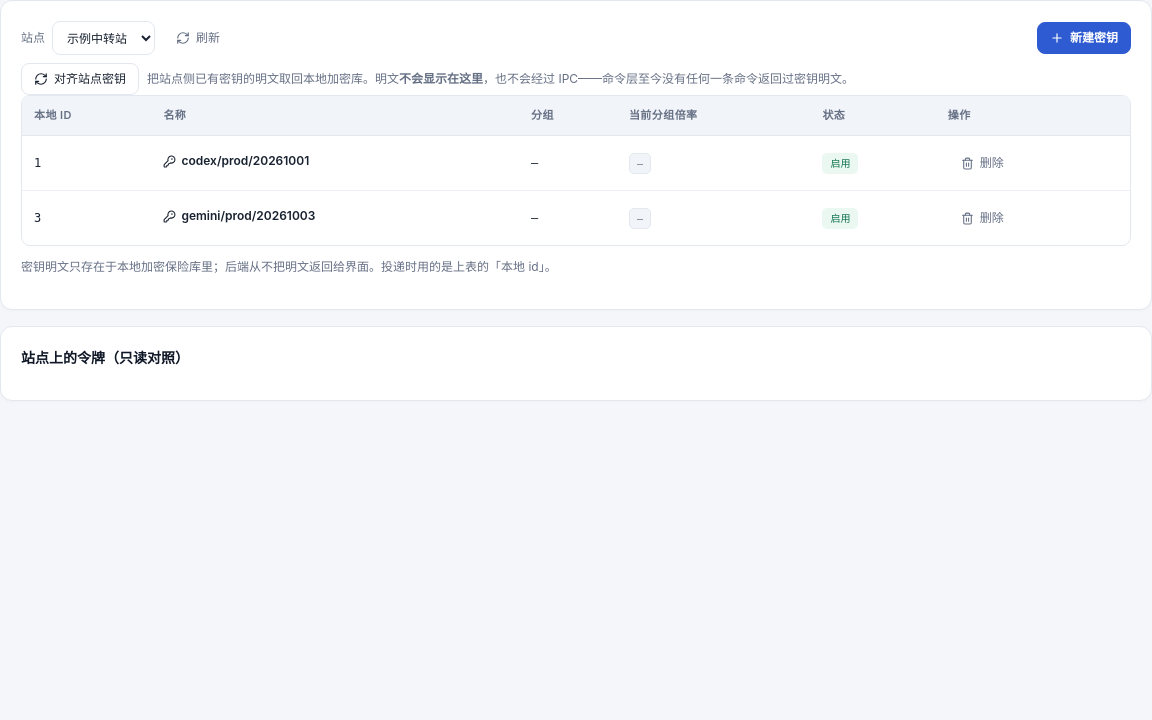
Test: 资产 · 删除密钥（M47-S1） › ④ 删除成功后这一行从表里消失
Expected: the text "codex/prod/20261001" is shown, x1=163 y1=152 x2=309 y2=171
Click the button "删除" in the row of "codex/prod/20261001": (982, 163) x1=948 y1=147 x2=1017 y2=179
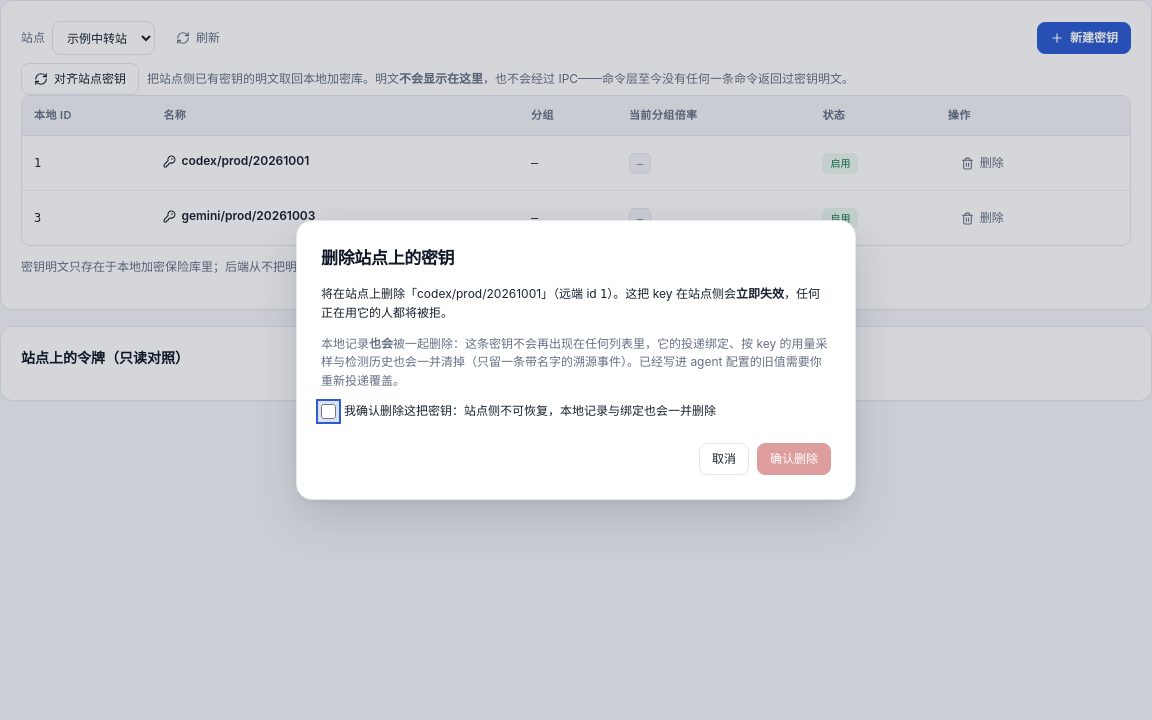
Click the checkbox: (328, 412) x1=321 y1=404 x2=336 y2=419
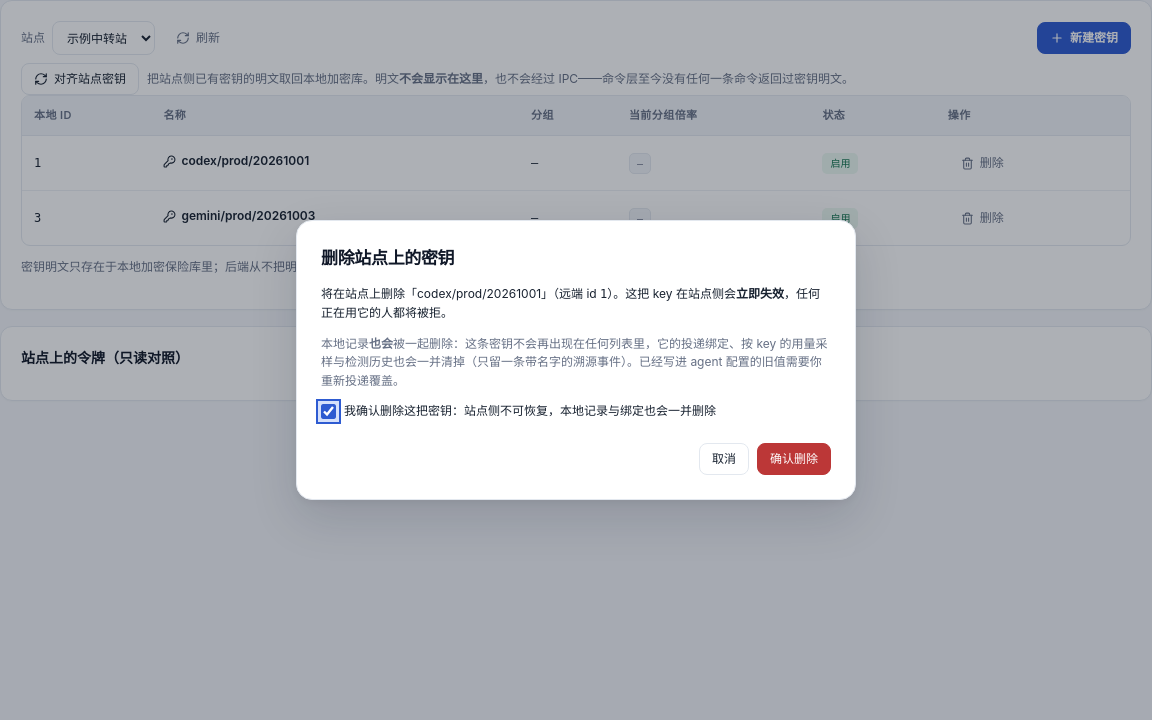
Click the button "确认删除": (794, 459) x1=757 y1=443 x2=831 y2=475
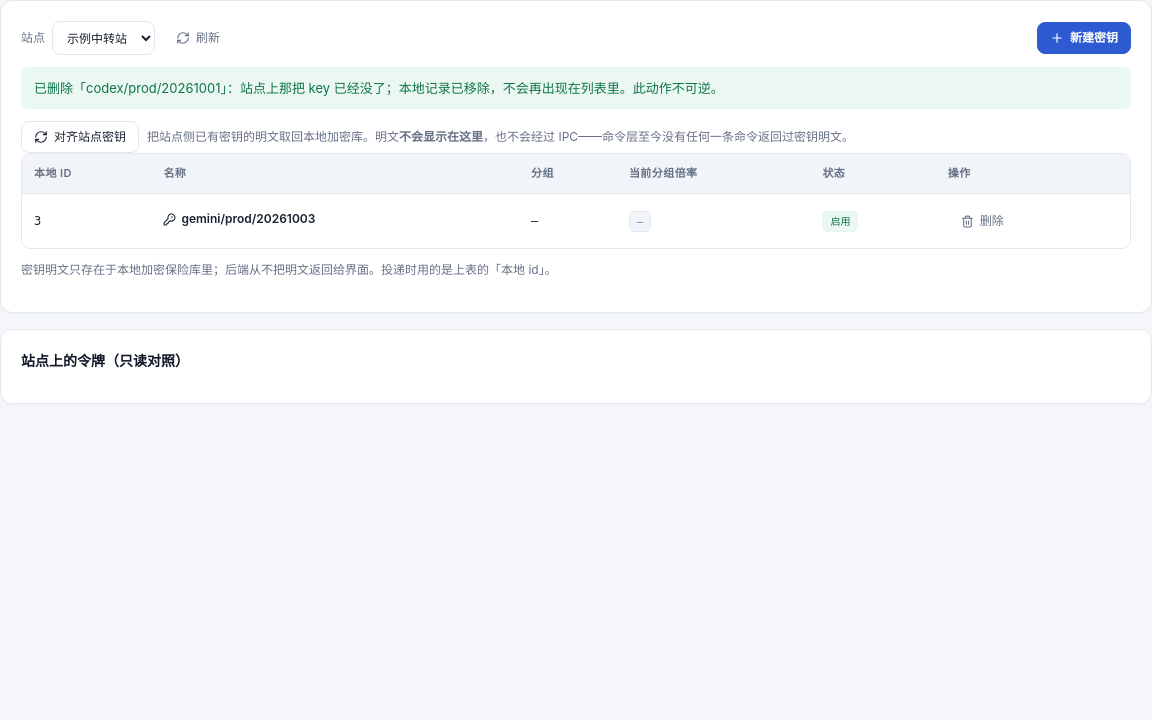
Expected: the text "gemini/prod/20261003" is shown, x1=163 y1=210 x2=315 y2=229
Expected: the message shows "不会再出现在列表里", x1=34 y1=80 x2=724 y2=96
